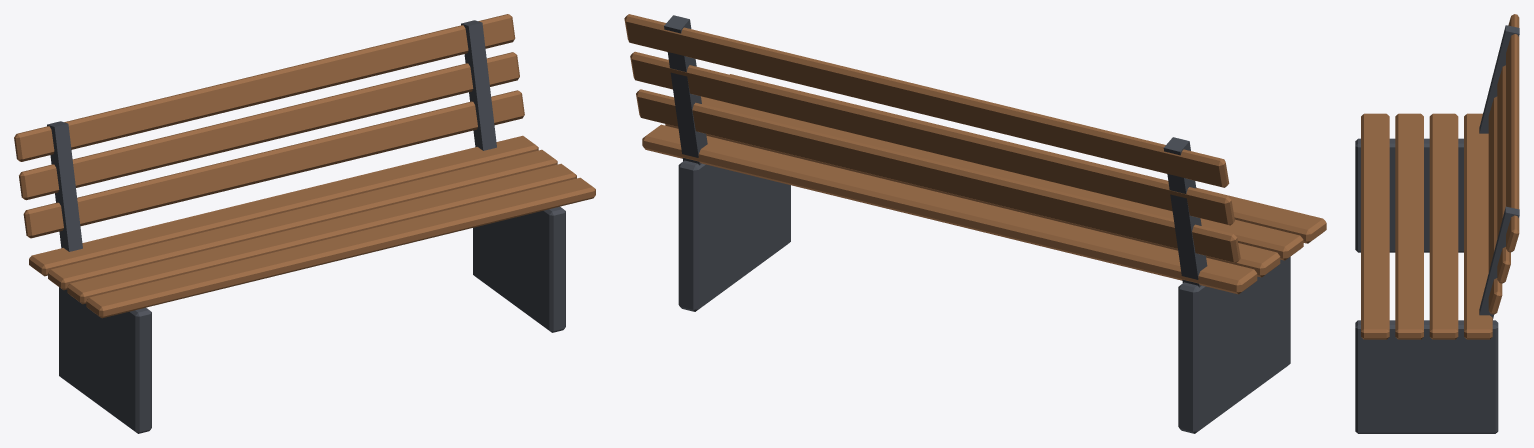
File: Bench_Wood.glb
3 views of the same model, side by side, from view 1: azimuth 30°, elevation 25°; view 2: azimuth 150°, elevation 25°; view 3: azimuth 270°, elevation 25° (orthographic). The views are drawn at different scales.
Parts seen in each view (by area): view 1: Bench_Wood; view 2: Bench_Wood; view 3: Bench_Wood.
Boxes of the visible parts, <box> form: Bench_Wood: <box>14,14,595,433</box>; Bench_Wood: <box>624,14,1326,433</box>; Bench_Wood: <box>1355,14,1519,433</box>.
Bounding box in the file's own units: 1.8 × 0.8557 × 0.5744.
Materials: 1 (1 with a texture image).
